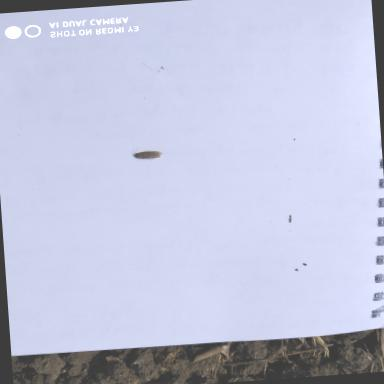pbw: (130, 148, 160, 160)
